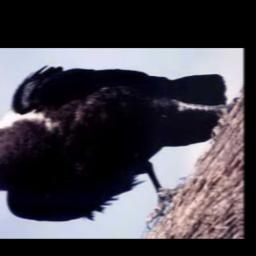Crow: (0, 61, 234, 227)
